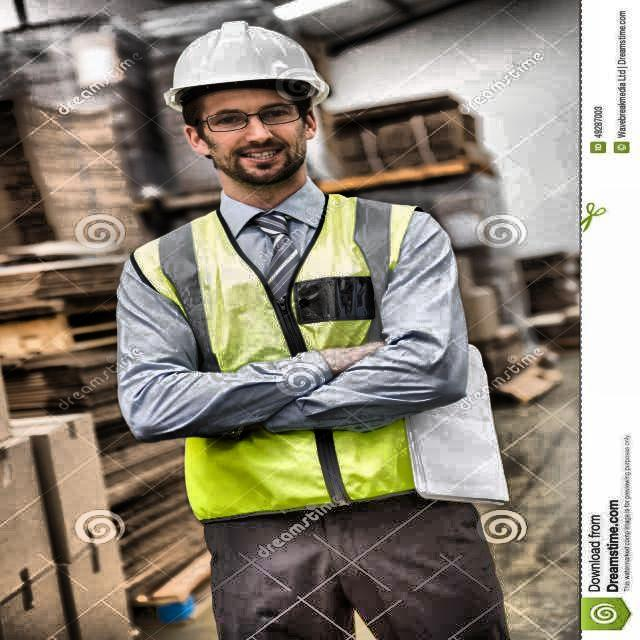person: (97, 23, 538, 629)
